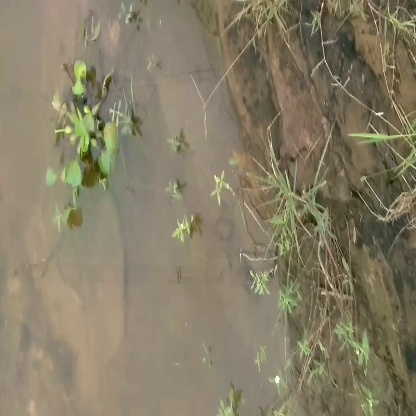leaf: (59, 100, 129, 160)
